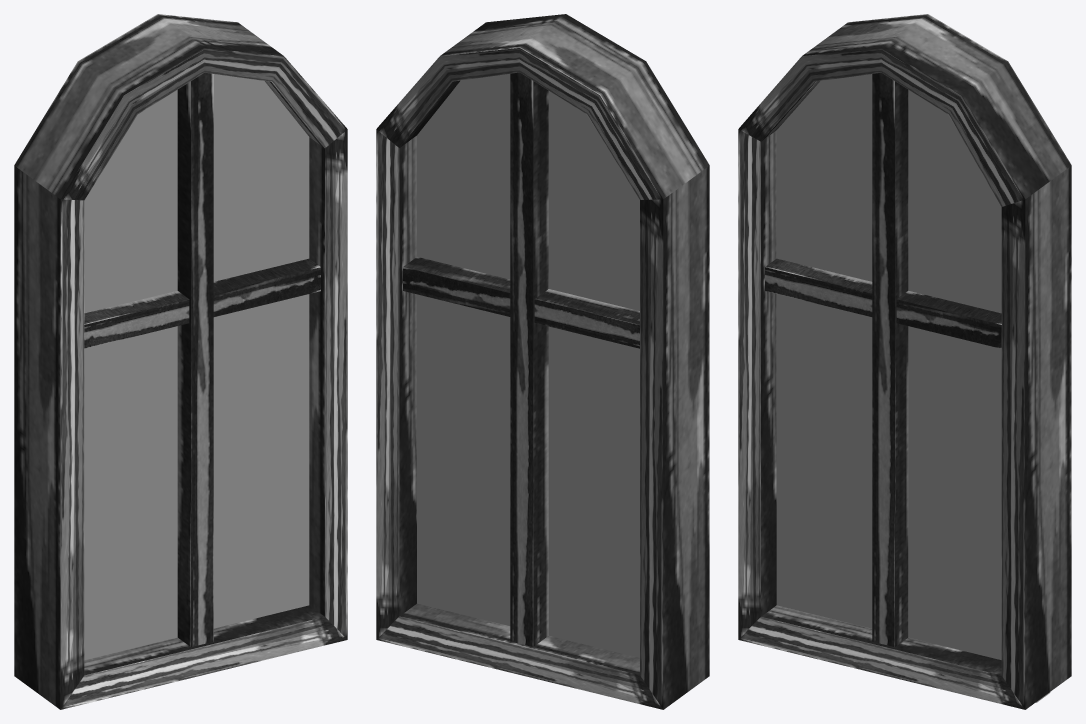
File: WindowFrameRound.fbx
3 views of the same model, side by side, from view 1: azimuth 30°, elevation 25°; view 2: azimuth 150°, elevation 25°; view 3: azimuth 330°, elevation 25° (orthographic).
Parts seen in each view (by area): view 1: WindowFrameRound, WindowGlassRound; view 2: WindowFrameRound, WindowGlassRound; view 3: WindowFrameRound, WindowGlassRound.
Boxes of the visible parts, <box> form: WindowFrameRound: <box>14,14,347,709</box>; WindowGlassRound: <box>84,74,309,659</box>; WindowFrameRound: <box>376,14,709,709</box>; WindowGlassRound: <box>417,74,639,657</box>; WindowFrameRound: <box>738,14,1071,709</box>; WindowGlassRound: <box>776,74,1050,702</box>.
Size of the model in its own units: 2 by 4.2 by 0.5666.
